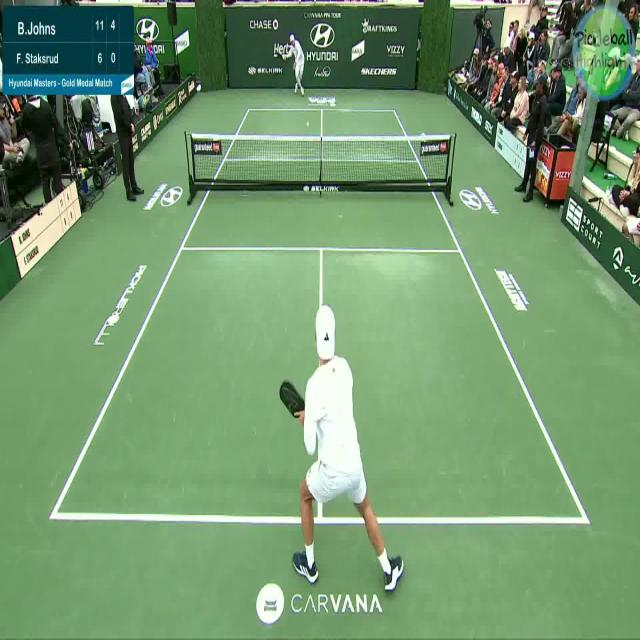ball: (306, 121, 311, 128)
